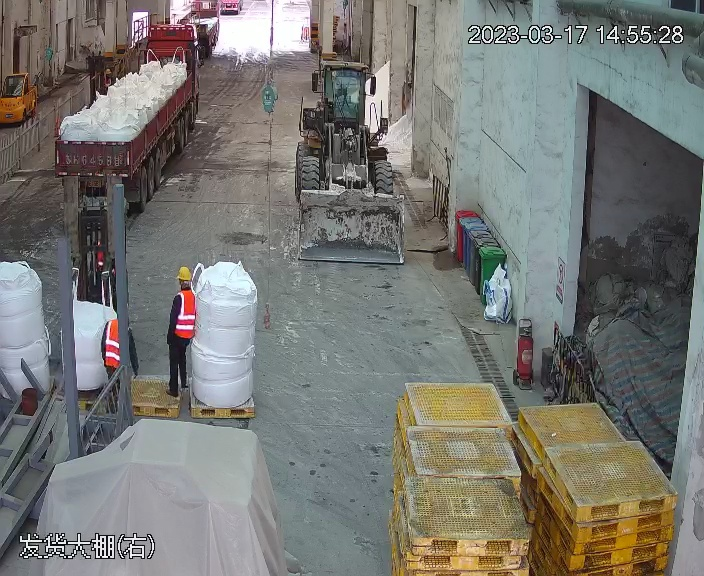head: (172, 265, 198, 309)
helmet: (176, 265, 193, 281)
people: (165, 265, 200, 402)
truck: (25, 21, 201, 208)
